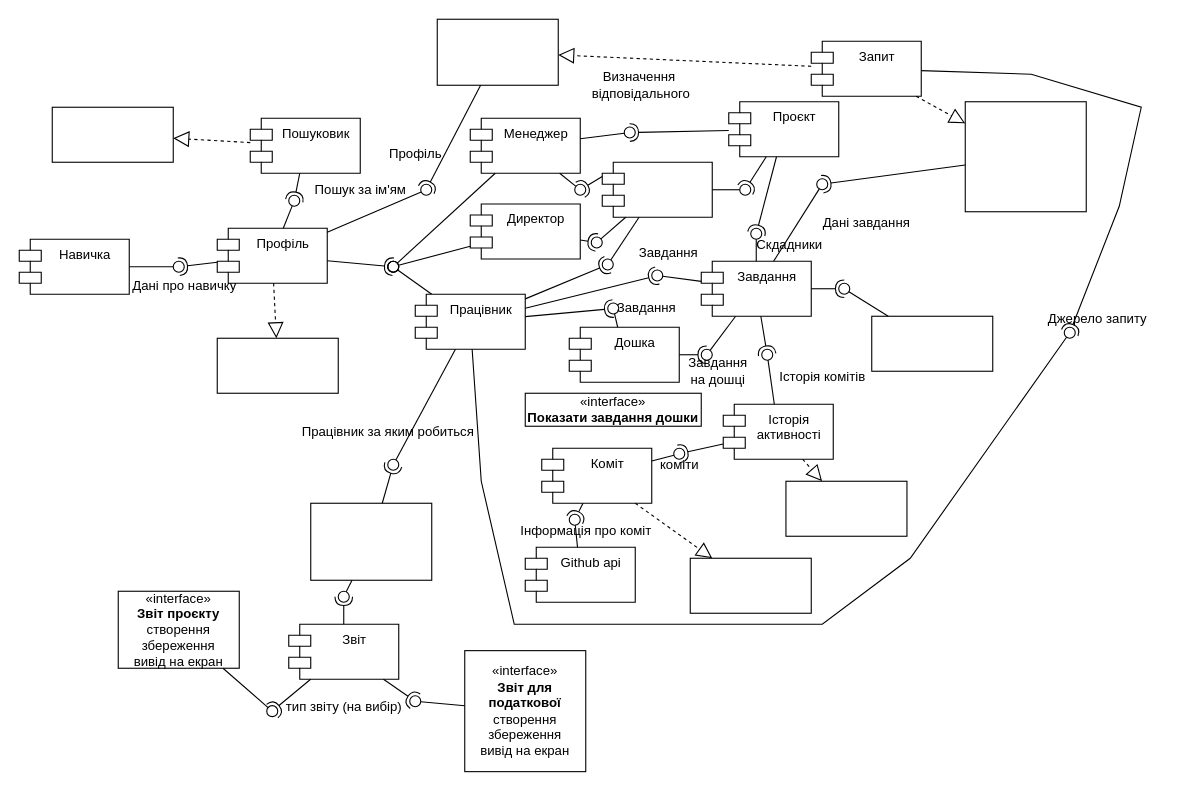
Image size: 1177x791. Some labels were removed from this diagram. The box of each missing label's shape, as (x1, y1, x2, y2) in pixels:
«interface» Відобразити Створити: (871, 315, 993, 371)
«interface» Запит на підтвердження виконання: (964, 101, 1086, 212)
«interface» Запит на редагування профілю: (436, 18, 558, 85)
«interface» Звіт працівника створення збереження вивід на екран: (310, 502, 432, 580)
«interface» Показати коміт: (689, 557, 811, 613)
«interface» Показати на екран: (216, 337, 338, 393)
«interface» Показати історію пошук коміту: (785, 480, 907, 536)
«interface» Результати пошуку: (51, 106, 173, 162)
Компанія (+ сервер): (601, 161, 712, 217)
